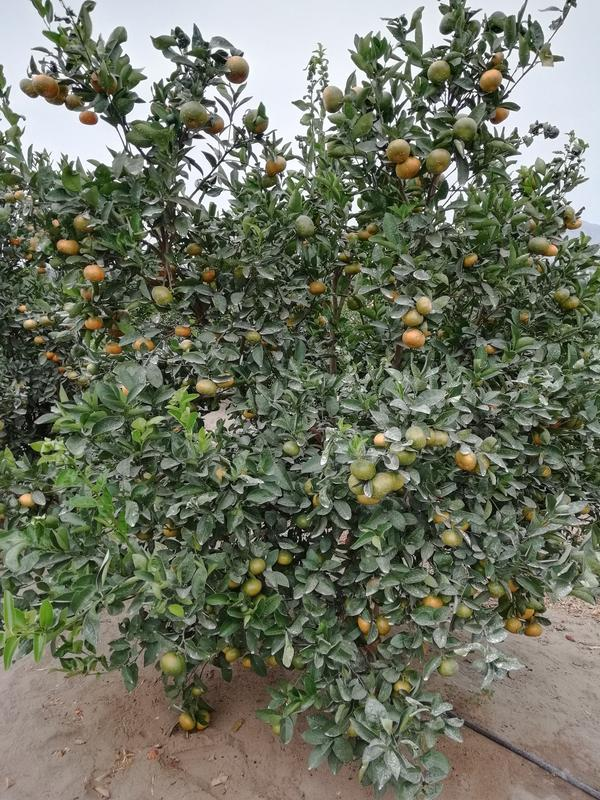mandarina naranja: (34, 75, 59, 97), (479, 69, 502, 91), (396, 158, 420, 179), (454, 449, 477, 470), (265, 156, 286, 178), (403, 328, 425, 347), (401, 309, 423, 326), (177, 710, 194, 730), (84, 265, 104, 282), (524, 621, 542, 637), (490, 108, 509, 123), (79, 110, 98, 125), (57, 240, 77, 254), (416, 297, 432, 314), (504, 618, 521, 632), (377, 617, 390, 635), (309, 282, 325, 294)
mandarina verde: (180, 102, 205, 131), (225, 56, 249, 83), (426, 149, 450, 174), (160, 652, 184, 676), (452, 117, 477, 140), (386, 139, 410, 162), (371, 473, 393, 498), (323, 86, 343, 113), (351, 459, 376, 480), (405, 426, 426, 449), (428, 61, 450, 82), (295, 215, 314, 236), (442, 529, 463, 547), (152, 286, 171, 305), (438, 658, 458, 676), (528, 237, 549, 254), (20, 78, 37, 98), (196, 380, 217, 396), (243, 578, 262, 595), (488, 579, 506, 596), (207, 114, 223, 133), (248, 558, 266, 574), (455, 603, 473, 618), (562, 295, 579, 309), (86, 316, 103, 329), (284, 441, 299, 455), (278, 550, 291, 565), (555, 288, 569, 300)
